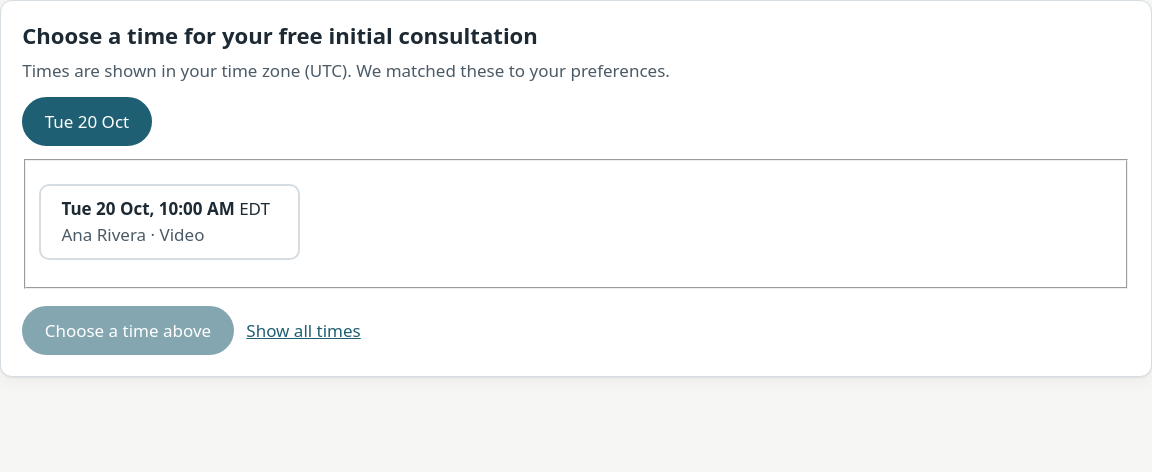
Test: SchedulingStep › shows alternatives when the slot was just taken
The image size is (1152, 472).
Click the button "10:00 AM": (169, 222) [39,184,300,260]
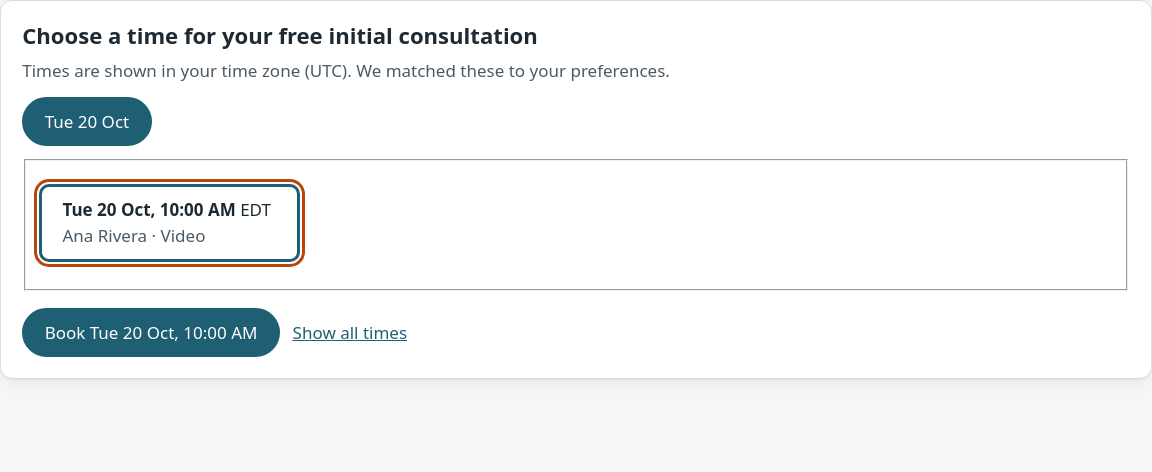
Click the button "Book Tue 20 Oct, 10:00 AM": (151, 333) [22,308,280,357]
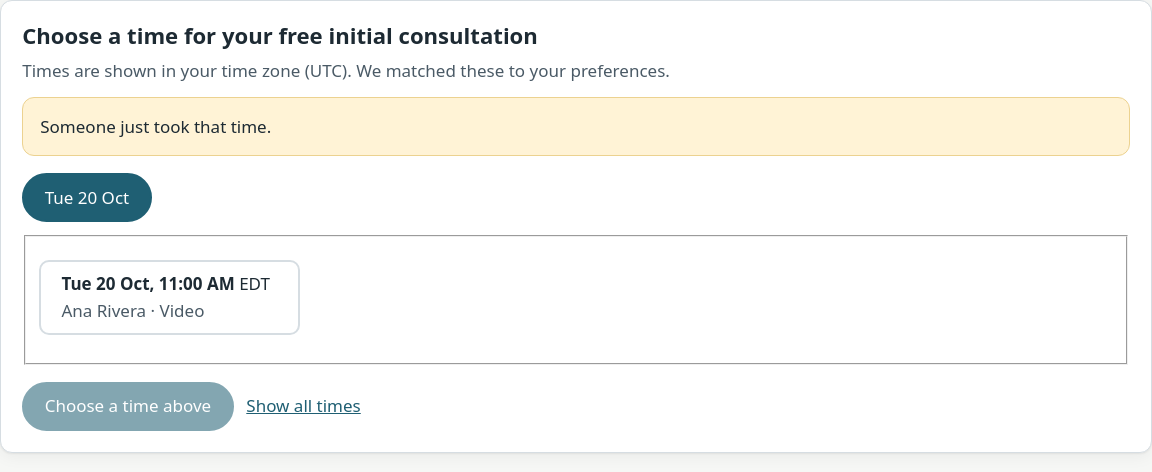
Expected: the message shows "just took", [40,115,271,138]
Expected: the button "11:00 AM" is shown, [39,260,300,336]
